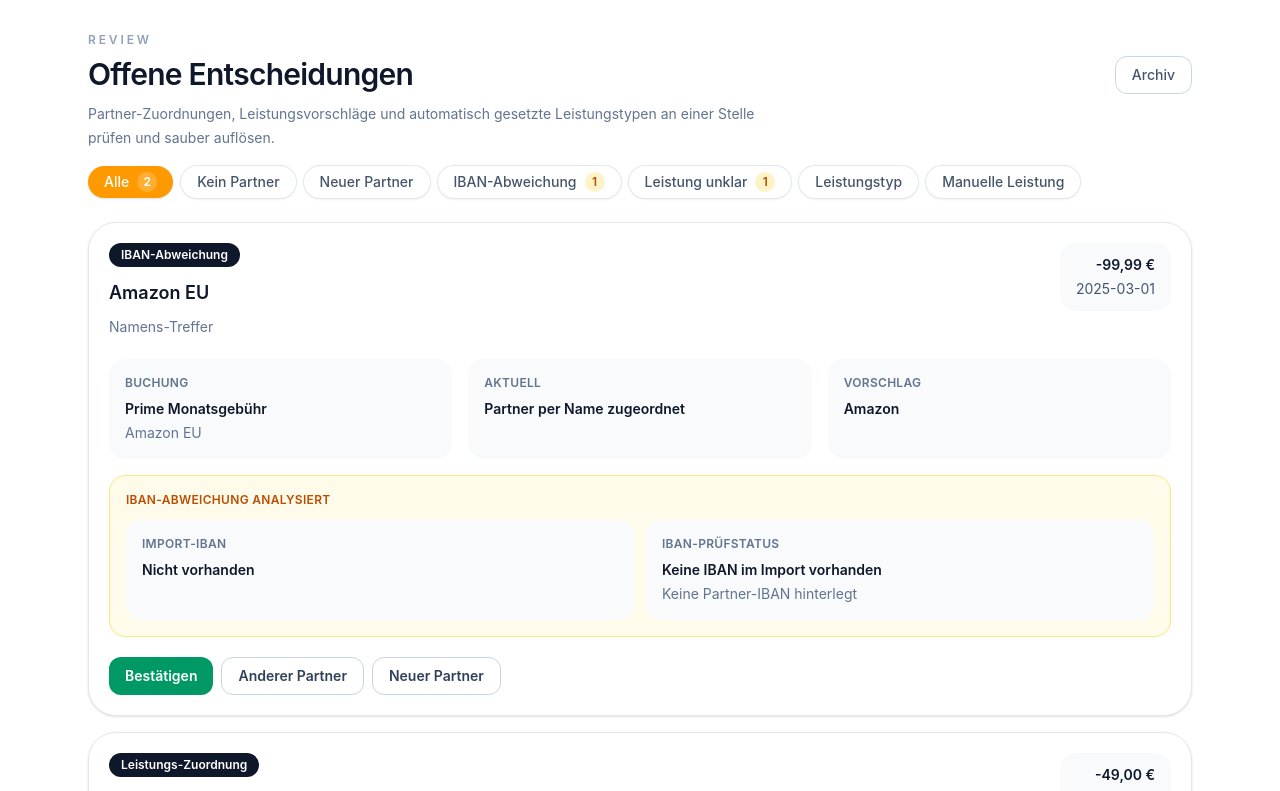
Test: ReviewPage › filters items by tab
Expected: the 1st heading "Amazon EU" is shown, 109,282 -> 209,303
// switch to 'Leistung unklar' tab — only service_assignment should show
Click the button "Leistung unklar 1". click: click(710, 182)
box: 628,166 -> 791,198
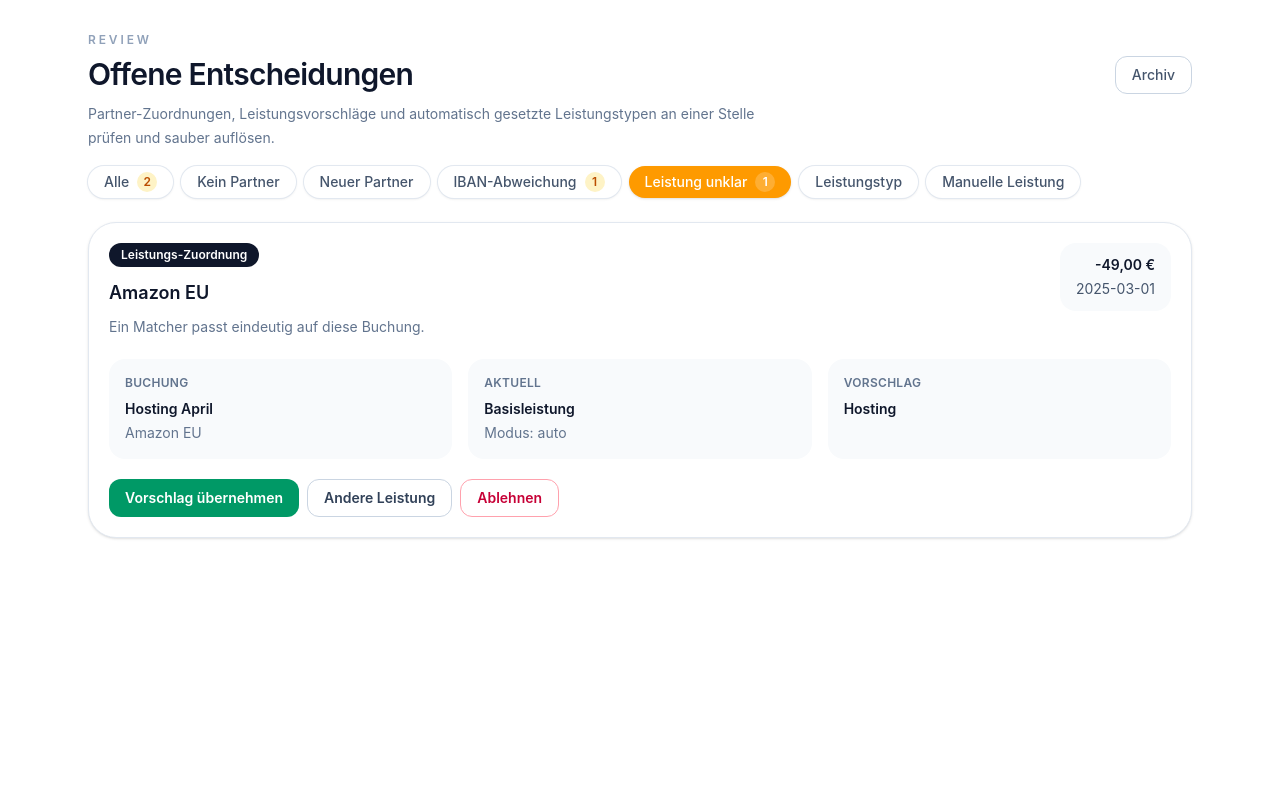
Expected: the button "Vorschlag übernehmen" is shown, 109,479 -> 299,517
Expected: the button "Bestätigen" is gone
// switch to 'Kein Partner' tab — nothing matches
Click the button "Kein Partner". click: click(238, 182)
box: 181,166 -> 296,198
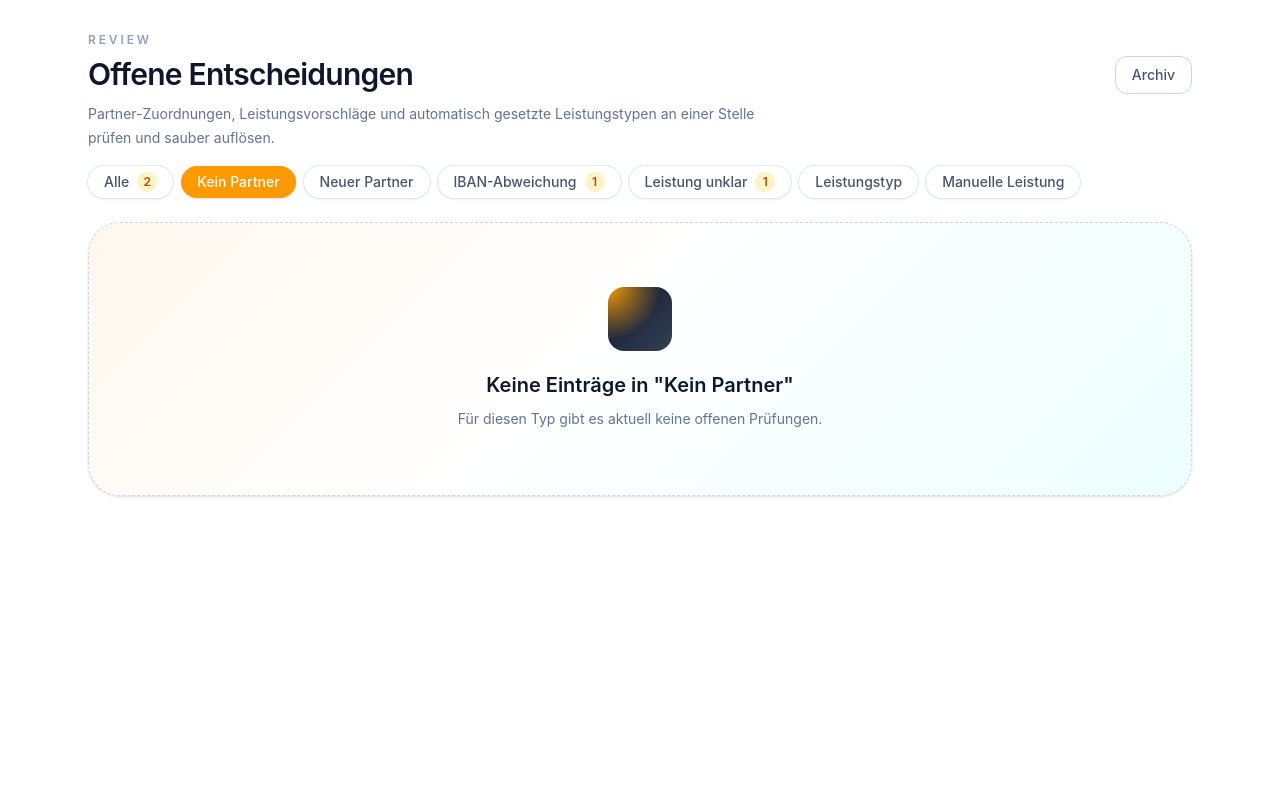
Expected: the heading "Keine Einträge in \"Kein Partner\"" is shown, 486,373 -> 794,397
